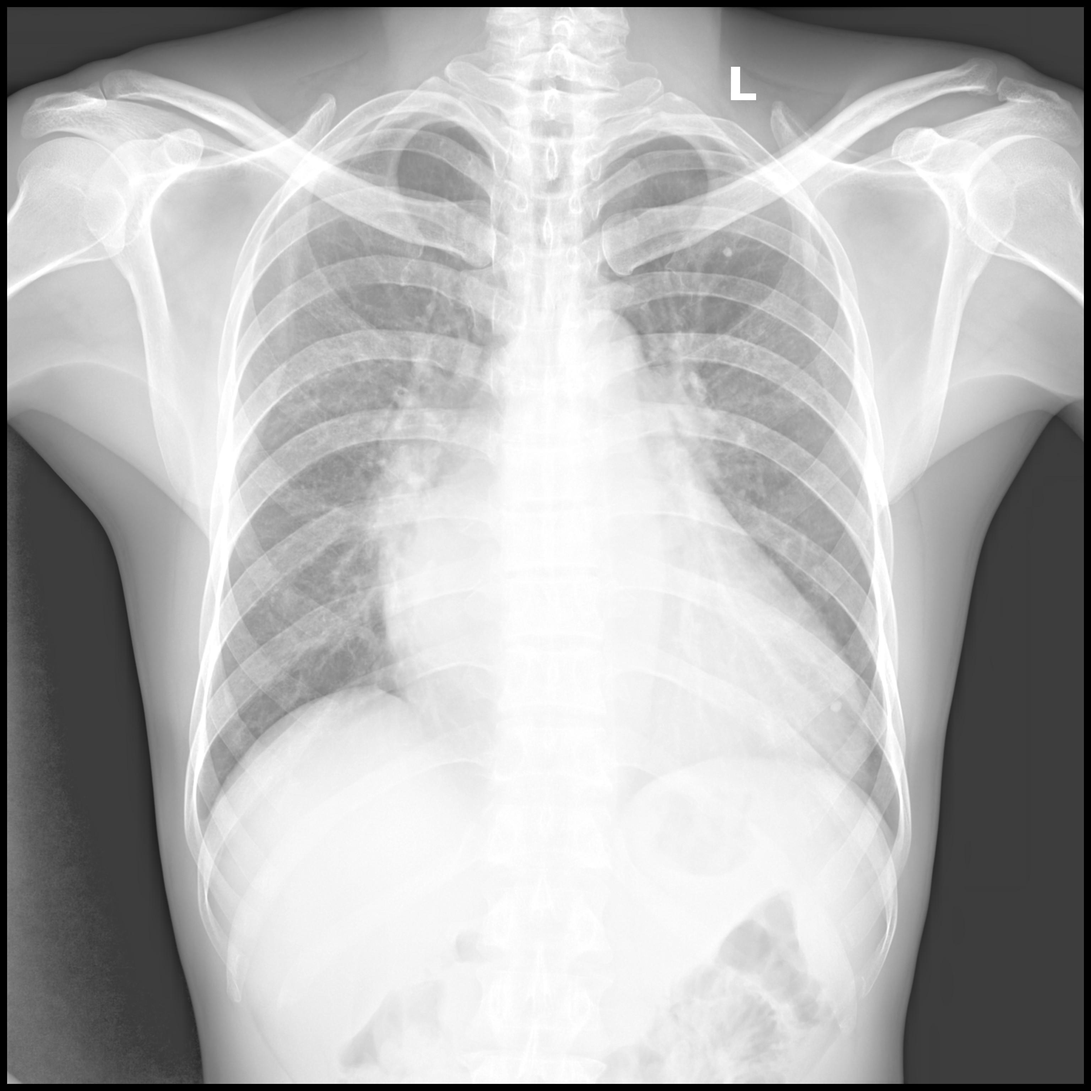Cardiomegaly: (379, 548, 872, 785)
Pleural thickening: (338, 105, 416, 151)
